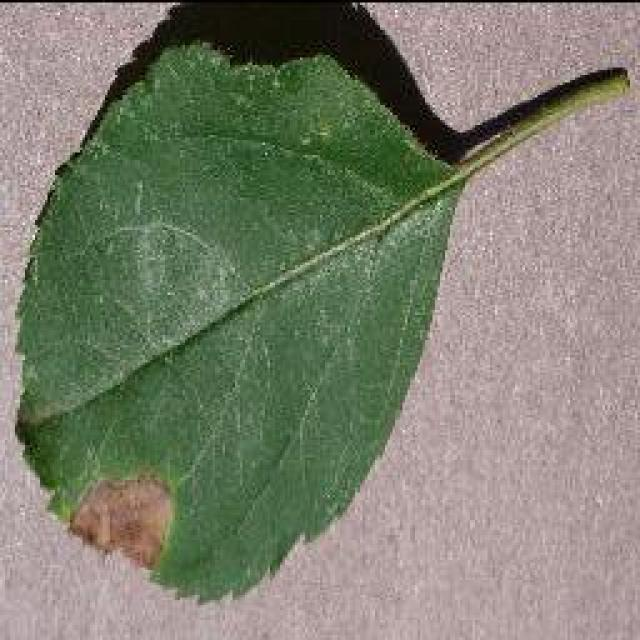Black_rot: (10, 0, 630, 605)
